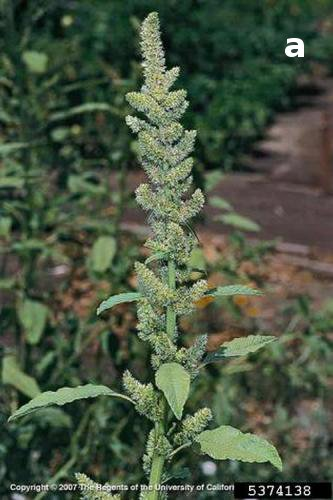Redroot Pigweed: (116, 9, 215, 449)
